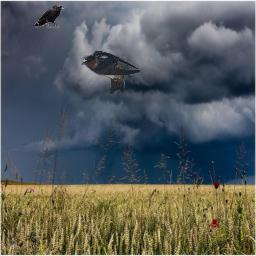Crow: (32, 4, 65, 29)
Swallow: (81, 50, 141, 94)
